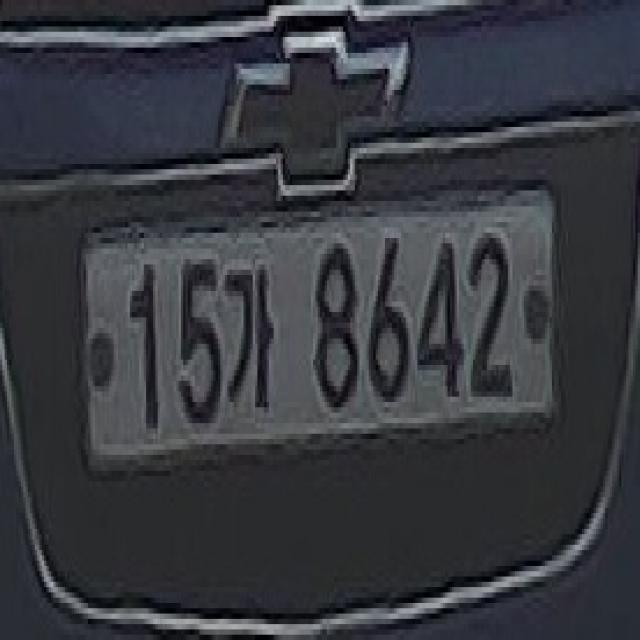1: (123, 238, 171, 460)
2: (466, 217, 522, 418)
4: (415, 222, 466, 418)
5: (174, 232, 225, 450)
6: (364, 228, 413, 423)
8: (311, 222, 364, 434)
ga: (223, 238, 283, 434)
license_plate: (72, 164, 568, 502)
